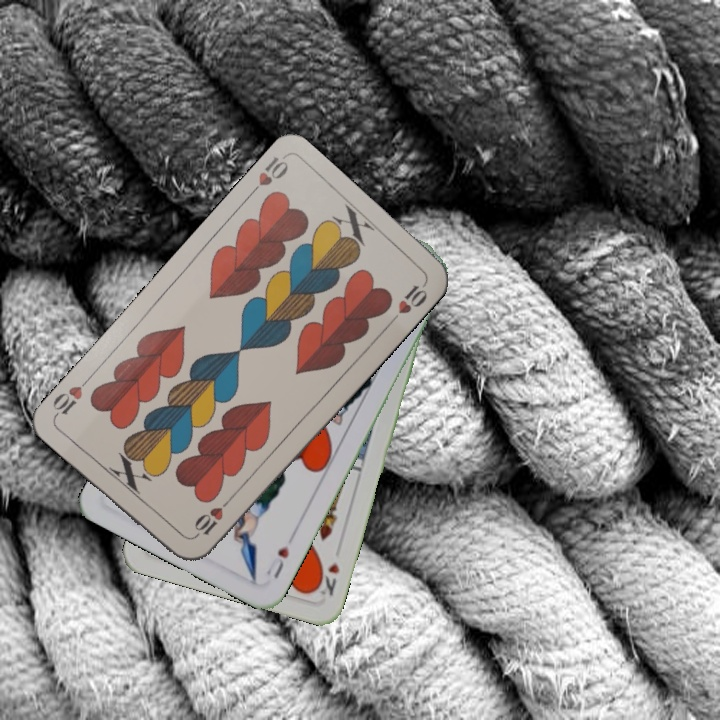H10: (243, 152, 291, 201), (189, 494, 234, 542)
HK: (311, 559, 342, 599)
HU: (262, 541, 292, 581)
